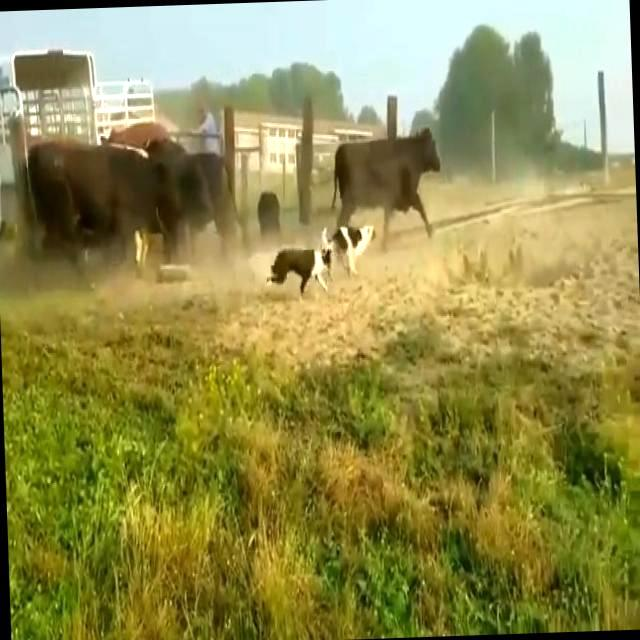COW: (310, 98, 452, 238)
